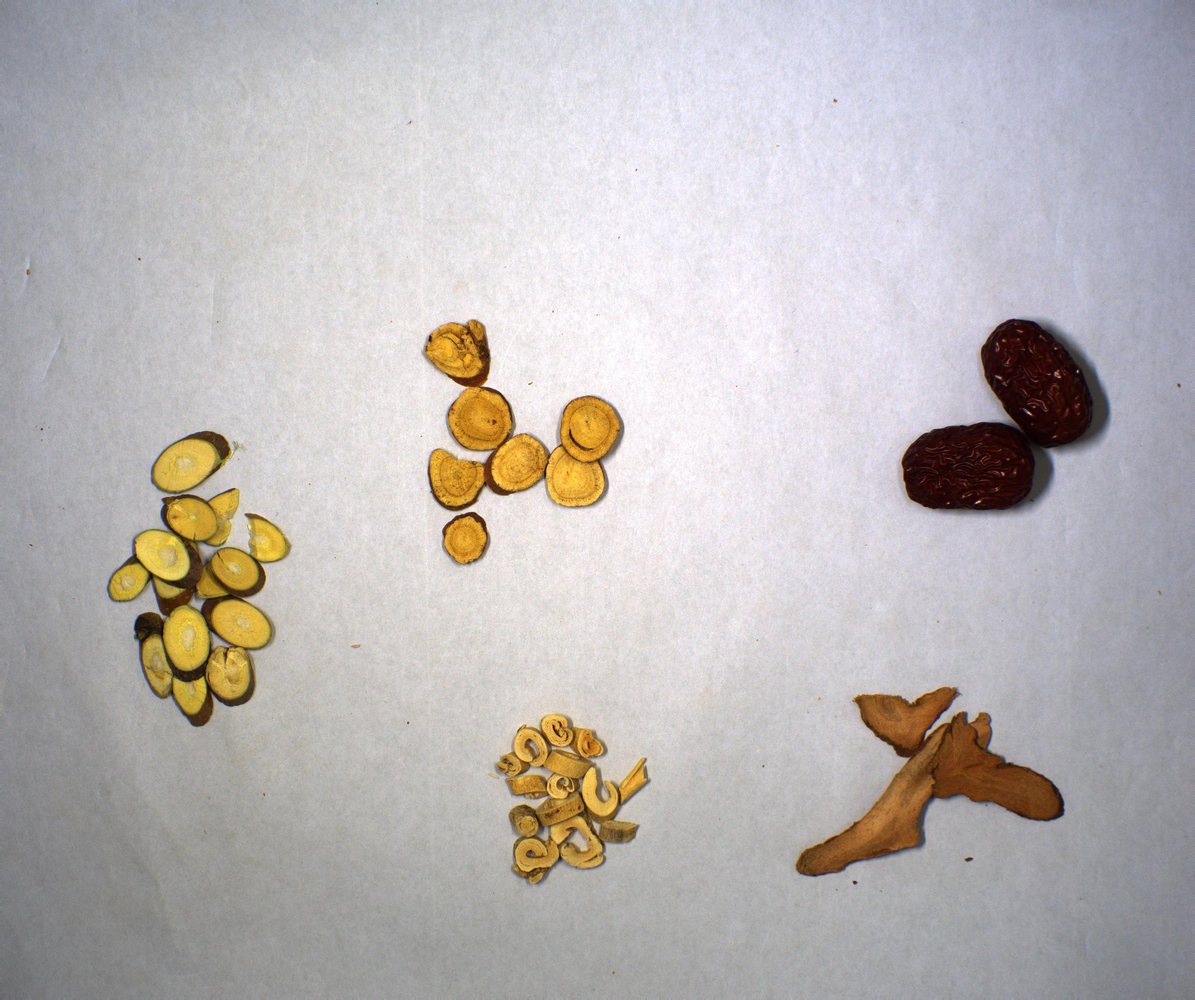baixianpi: (497, 715, 658, 884)
dazao: (896, 316, 1110, 517)
gancao: (416, 320, 624, 565)
gaoliangjiang: (787, 688, 1078, 876)
sangzhi: (99, 430, 292, 728)
